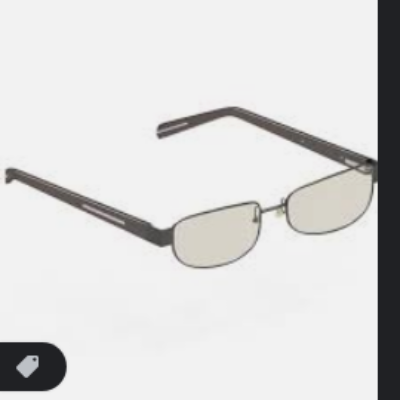glasses: (6, 103, 376, 286)
